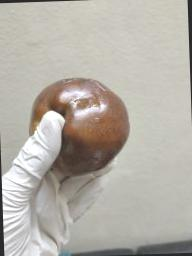Apple Rotten: (11, 75, 133, 178)
